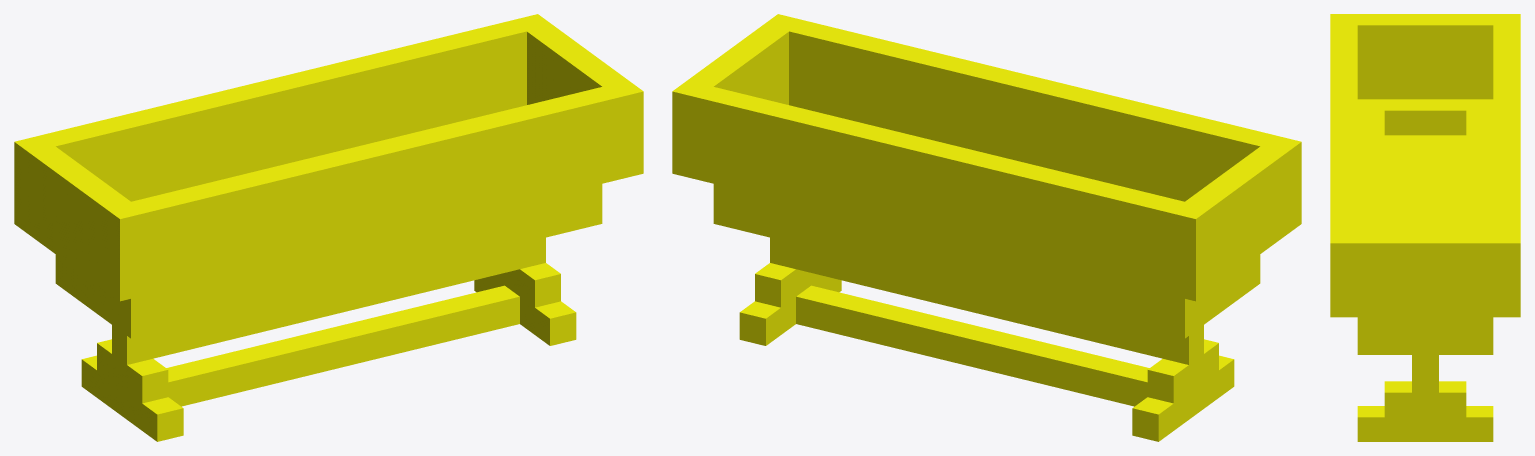
File: voxel-farm-empty-trough.glb
3 renders of one model, left to right at view 1: azimuth 30°, elevation 25°; view 2: azimuth 150°, elevation 25°; view 3: azimuth 270°, elevation 25°, orthographic. The views are drawn at different scales.
Visible parts, largest first — view 1: VS_Farm_Trough_Empty; view 2: VS_Farm_Trough_Empty; view 3: VS_Farm_Trough_Empty.
Boxes of the visible parts, x1,y1,x2,y2 form: VS_Farm_Trough_Empty: (14, 14, 643, 441); VS_Farm_Trough_Empty: (672, 14, 1301, 441); VS_Farm_Trough_Empty: (1330, 14, 1520, 441).
Bounding box in the file's own units: 2 × 0.9 × 0.7.
